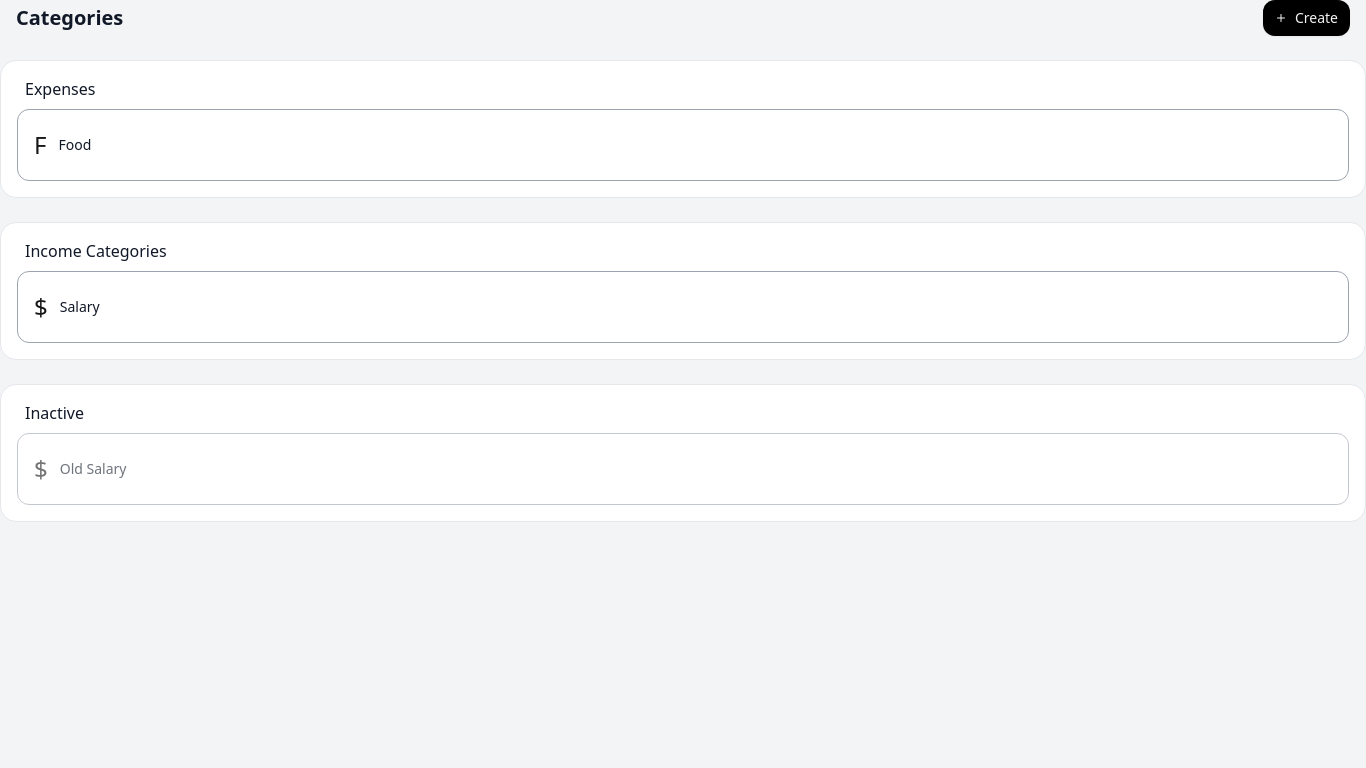
it: CategoriesPage income category regressions › saves the income toggle through the edit service
The width and height of the screenshot is (1366, 768).
Step 1. Click the button "F Food" → [75, 144], box 17,109 -> 1349,181
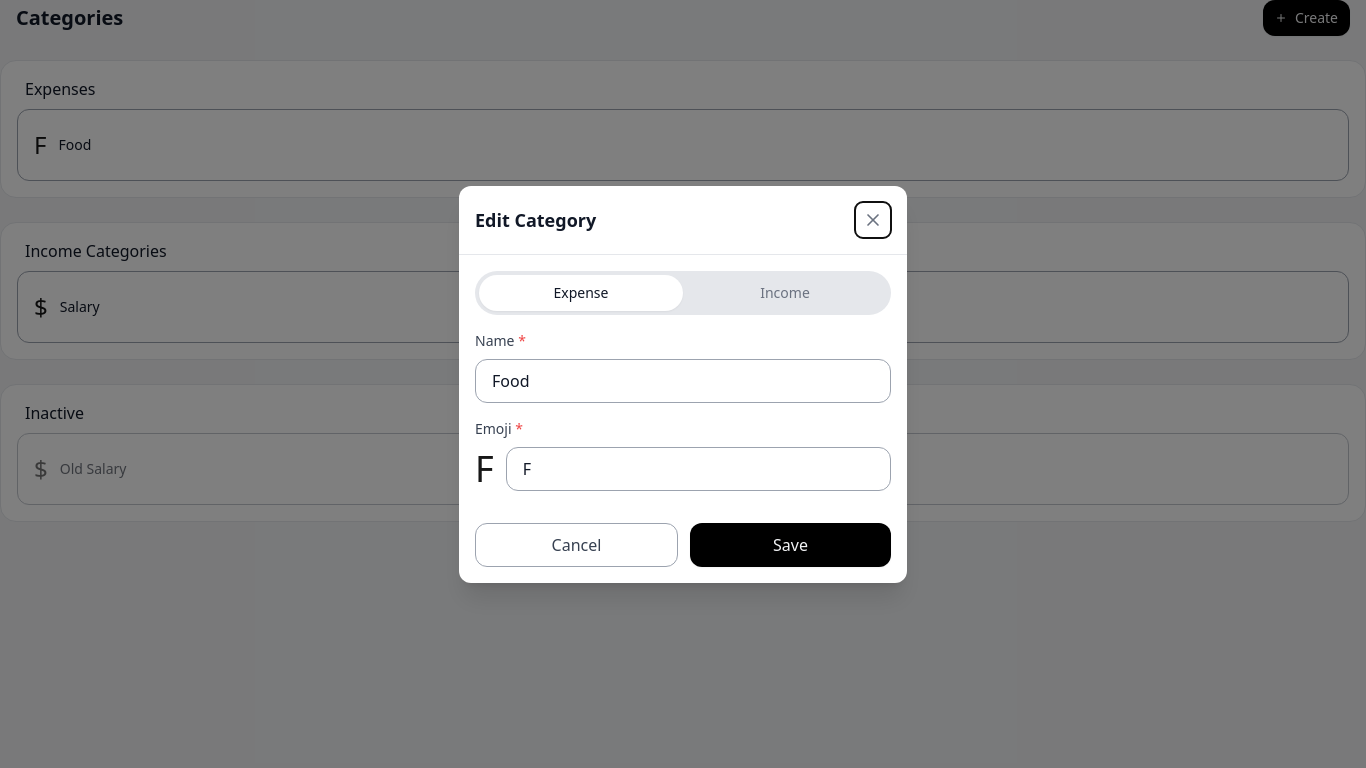
Step 2. Click the button "Income" → [785, 292], box 683,274 -> 887,310
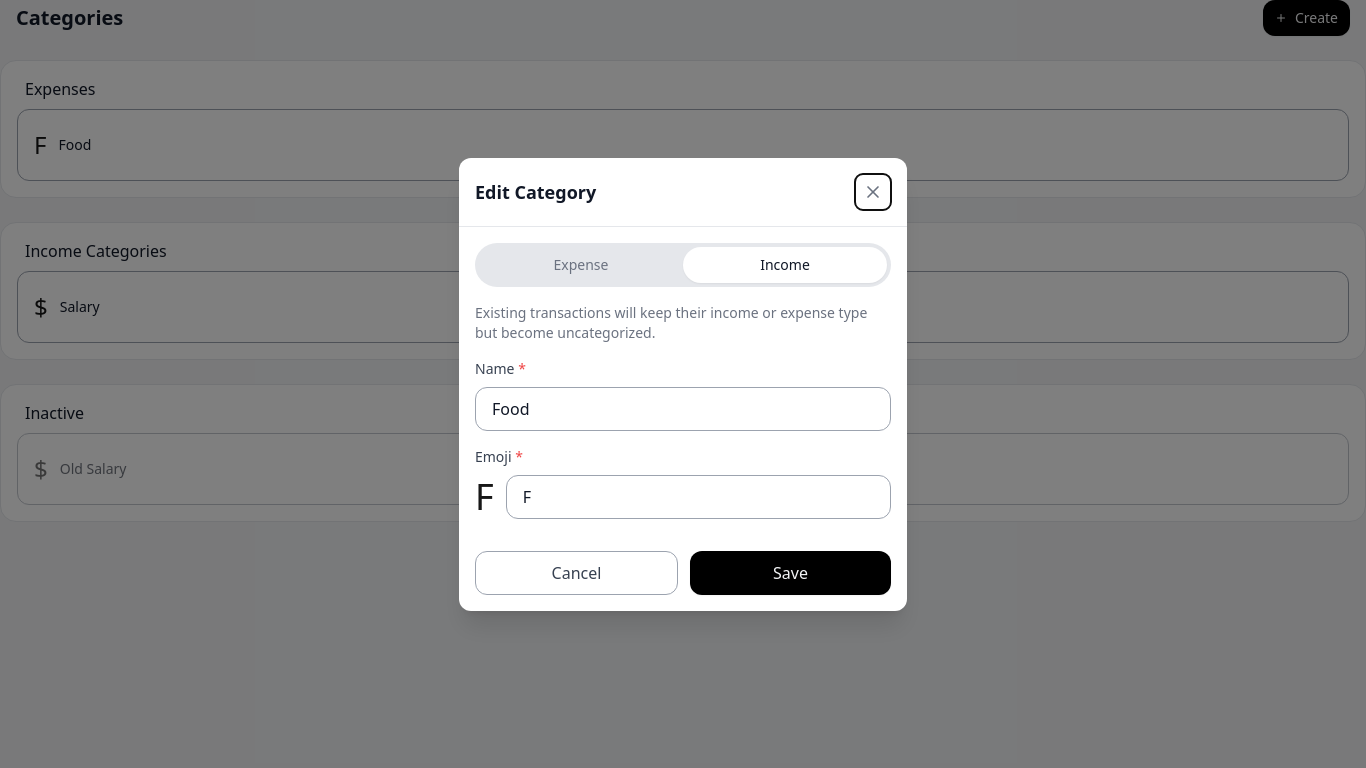
Step 3. Replace the text in the field labelled "Name *" with "Salary" → [683, 408], box 475,386 -> 891,430
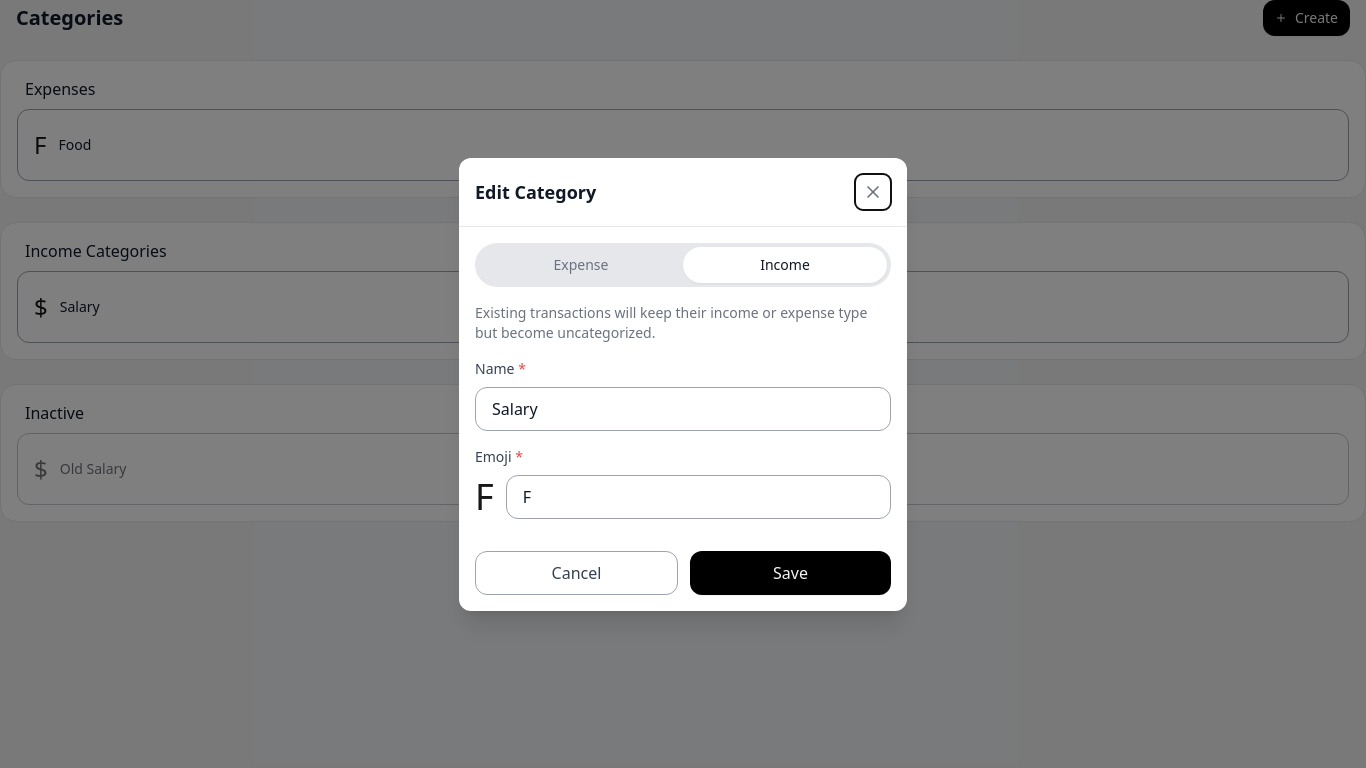
Step 4. Replace the text in the field named "Emoji" with "$" → [698, 496], box 506,474 -> 891,518
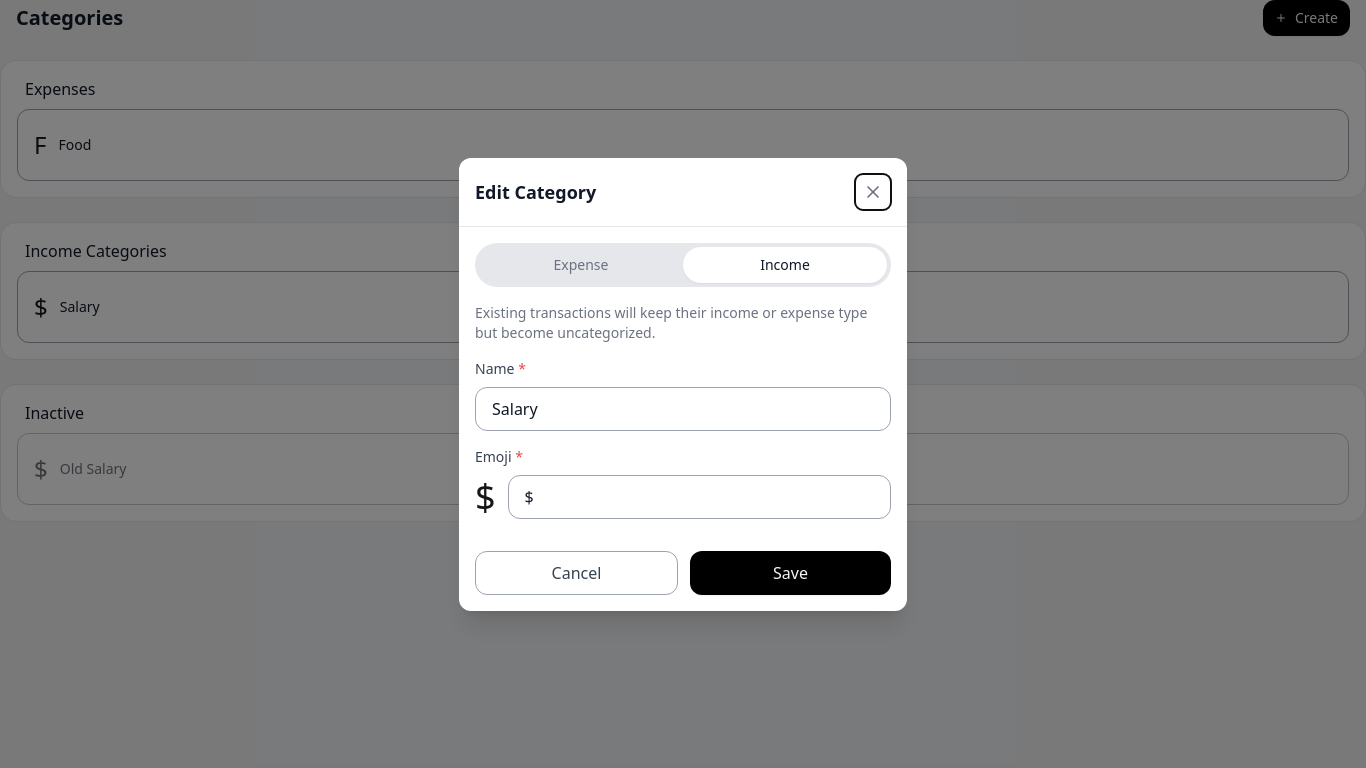
Step 5. Click the button "Save" → [790, 572], box 690,550 -> 891,594
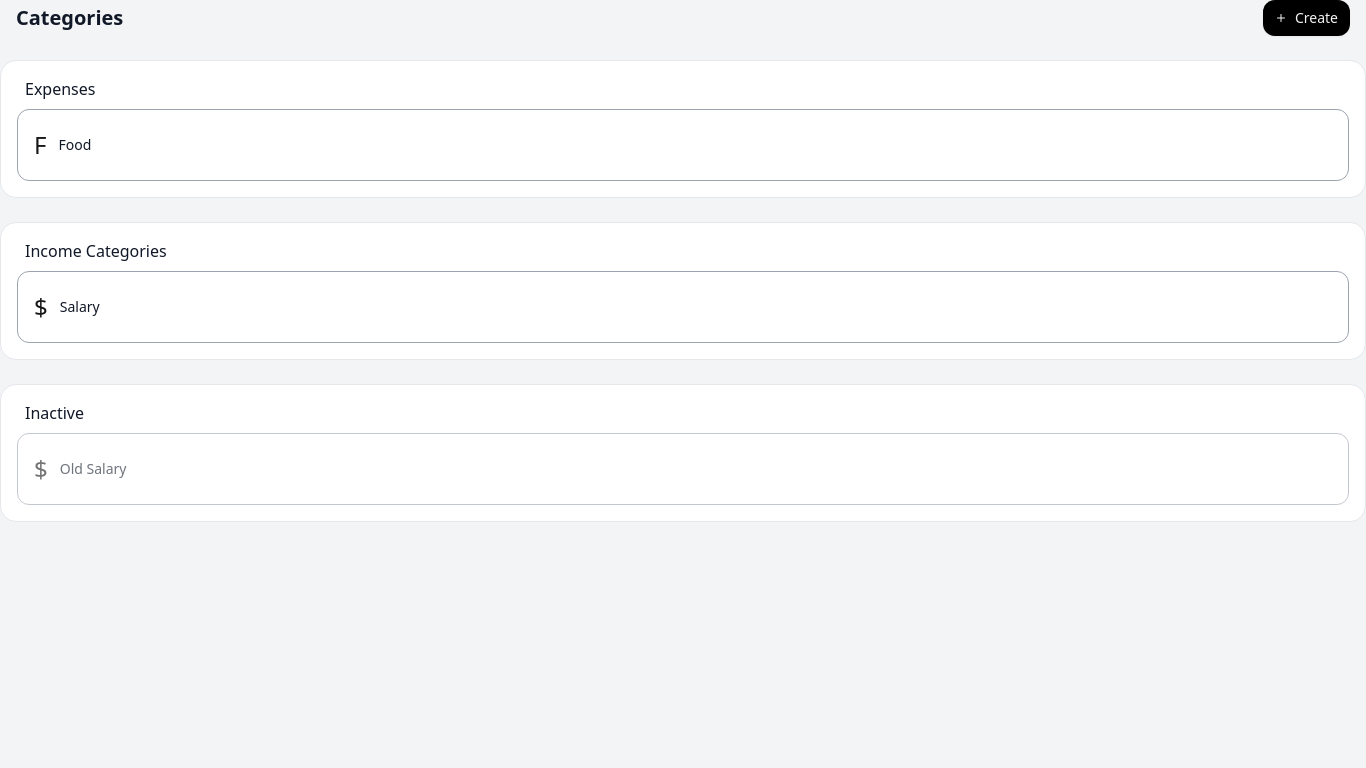
Check: the dialog is gone
